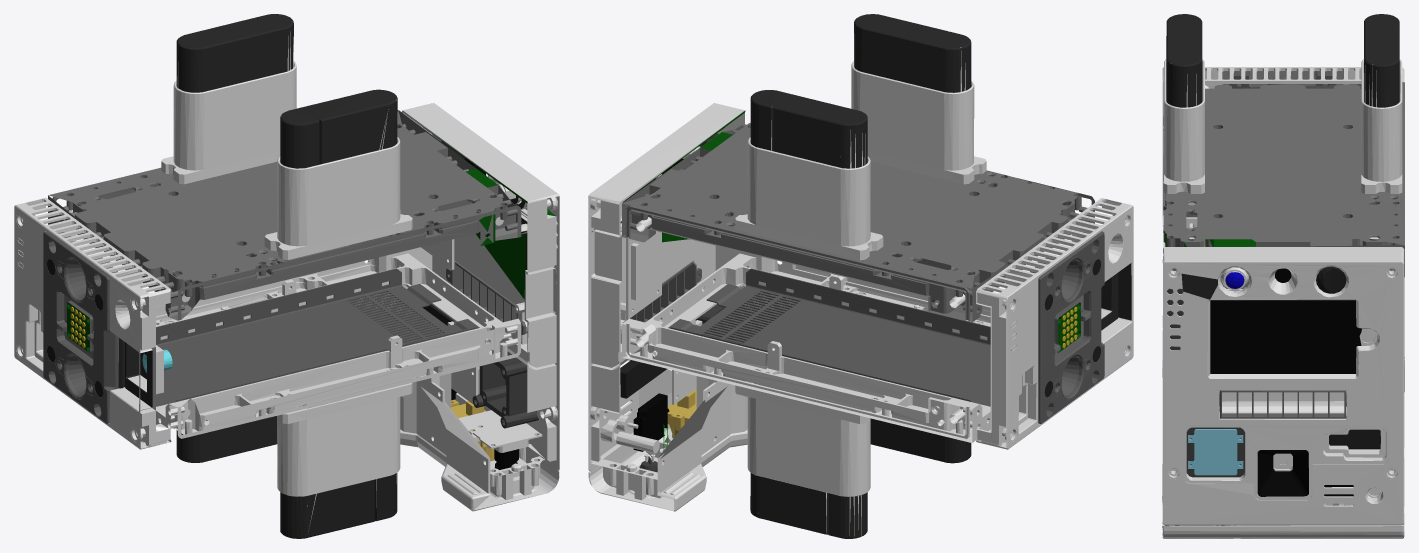
The picture shows the model from 3 angles, left to right: view 1: azimuth 30°, elevation 25°; view 2: azimuth 150°, elevation 25°; view 3: azimuth 270°, elevation 25°; orthographic projection. The views are drawn at different scales.
Visible parts, largest first — view 1: Astrobee, Astrobee_029, Astrobee_020, Astrobee_006, Astrobee_025, Astrobee_005, Astrobee_011, Astrobee_023, Astrobee_019, Astrobee_027; view 2: Astrobee, Astrobee_029, Astrobee_020, Astrobee_006, Astrobee_025, Astrobee_005, Astrobee_027, Astrobee_019, Astrobee_030, Astrobee_023, Astrobee_015, Astrobee_009; view 3: Astrobee, Astrobee_029, Astrobee_002, Astrobee_006, Astrobee_012, Astrobee_004, Astrobee_019, Astrobee_025, Astrobee_015, Astrobee_011, Astrobee_027, Astrobee_007 (+2 smaller).
Part boxes in pixels (x1,y1,x2,y2): Astrobee: (14, 31, 559, 531); Astrobee_029: (48, 110, 521, 320); Astrobee_020: (156, 268, 479, 406); Astrobee_006: (176, 14, 397, 534); Astrobee_025: (43, 231, 118, 423); Astrobee_005: (280, 473, 397, 538); Astrobee_011: (472, 349, 538, 428); Astrobee_023: (67, 118, 555, 352); Astrobee_019: (446, 261, 525, 339); Astrobee_027: (118, 195, 527, 407); Astrobee: (588, 33, 1133, 536); Astrobee_029: (622, 123, 1094, 322); Astrobee_020: (668, 268, 990, 406); Astrobee_006: (750, 14, 971, 538); Astrobee_025: (1030, 231, 1104, 423); Astrobee_005: (870, 418, 971, 463); Astrobee_027: (620, 142, 1131, 330); Astrobee_019: (623, 261, 701, 322); Astrobee_030: (633, 393, 669, 451); Astrobee_023: (629, 110, 1080, 352); Astrobee_015: (620, 360, 666, 398); Astrobee_009: (667, 389, 696, 437); Astrobee: (1162, 59, 1404, 538); Astrobee_029: (1163, 82, 1404, 277); Astrobee_002: (1210, 300, 1361, 373); Astrobee_006: (1166, 14, 1399, 107); Astrobee_012: (1188, 429, 1243, 475); Astrobee_004: (1257, 450, 1308, 496); Astrobee_019: (1219, 390, 1346, 418); Astrobee_025: (1222, 71, 1343, 88); Astrobee_015: (1329, 429, 1380, 449); Astrobee_011: (1186, 427, 1244, 477); Astrobee_027: (1181, 273, 1218, 299); Astrobee_007: (1316, 266, 1346, 293).
Bounding box in the file's own units: 0.2905 × 0.1519 × 0.2811.
